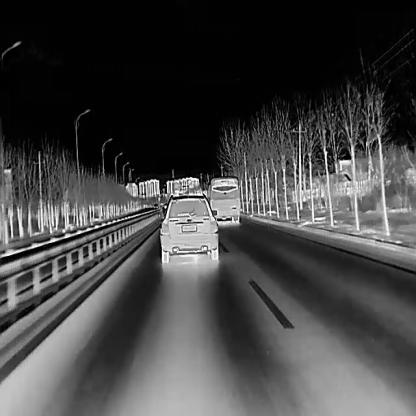bus: (208, 174, 240, 223)
car: (158, 192, 218, 263)
